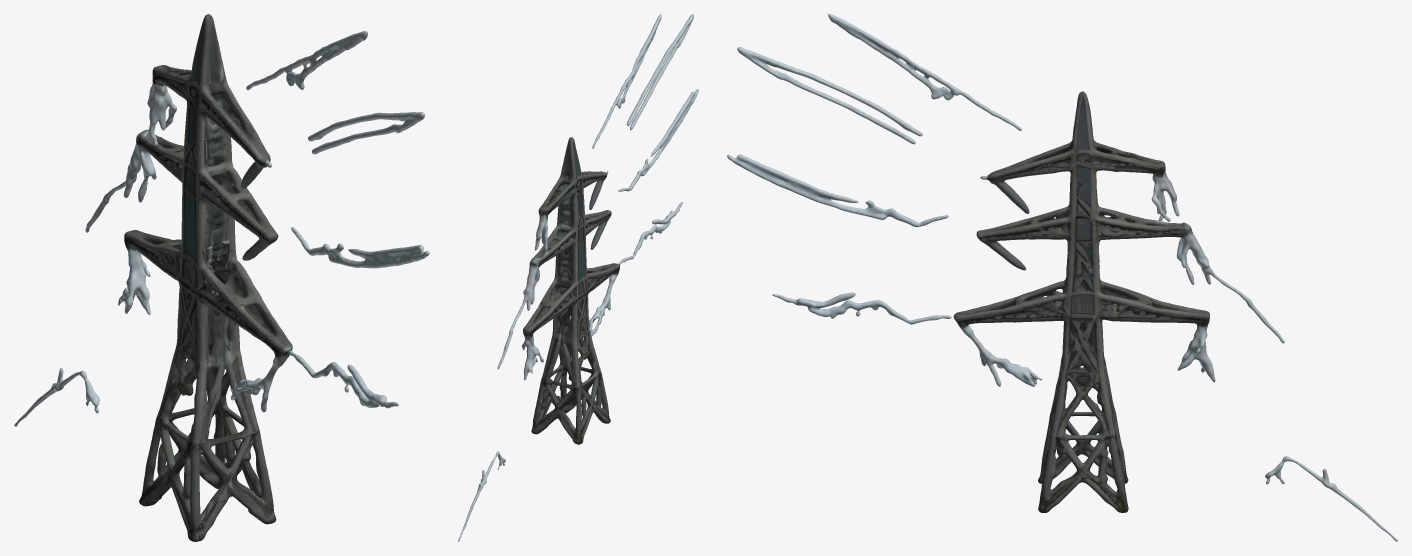
The model's file is fx_energy_pylon.glb.
3 renders of one model, left to right at view 1: azimuth 30°, elevation 25°; view 2: azimuth 150°, elevation 25°; view 3: azimuth 270°, elevation 25°, orthographic. The views are drawn at different scales.
Parts seen in each view (by area): view 1: tripo_node_fa7685bd-a6f6-4c3a-9276-7367b7585137; view 2: tripo_node_fa7685bd-a6f6-4c3a-9276-7367b7585137; view 3: tripo_node_fa7685bd-a6f6-4c3a-9276-7367b7585137.
Part boxes in pixels (<box>): tripo_node_fa7685bd-a6f6-4c3a-9276-7367b7585137: <box>14,14,429,541</box>; tripo_node_fa7685bd-a6f6-4c3a-9276-7367b7585137: <box>458,14,698,541</box>; tripo_node_fa7685bd-a6f6-4c3a-9276-7367b7585137: <box>727,14,1397,541</box>.
Size of the model in its own units: 0.1054 by 0.7638 by 0.8785.
Materials: 1 (1 with a texture image).
